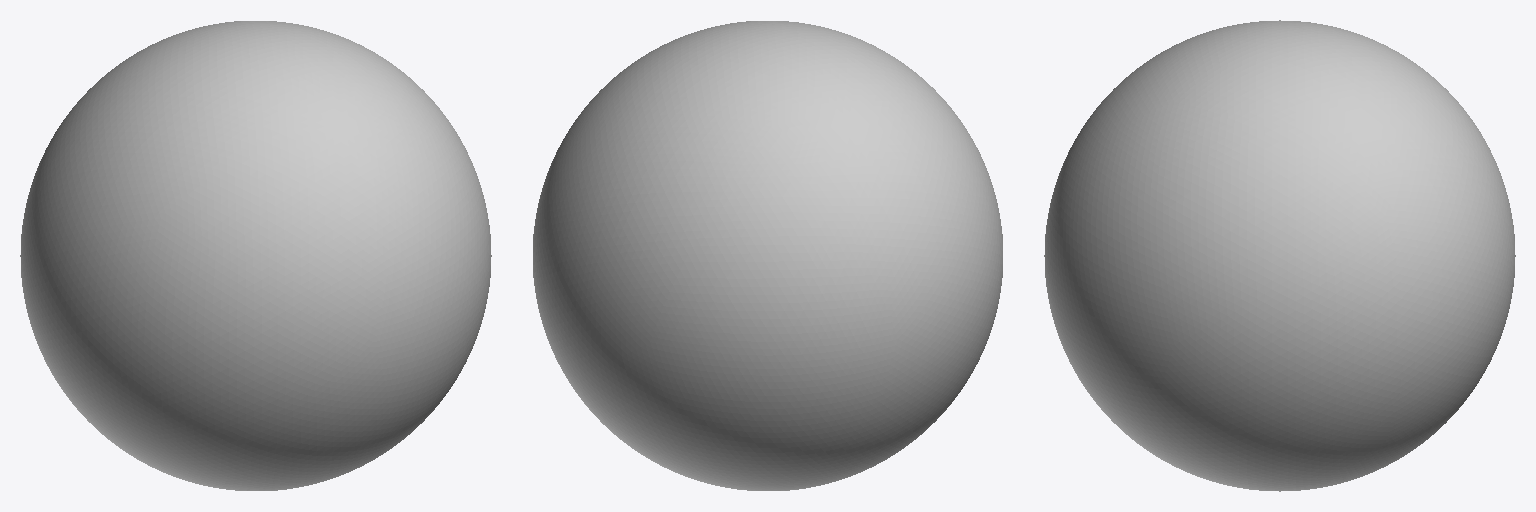
Rendered from ball20480.obj.
The picture shows the model from 3 angles: view 1: azimuth 30°, elevation 25°; view 2: azimuth 150°, elevation 25°; view 3: azimuth 270°, elevation 25°; orthographic projection.
Parts seen in each view (by area): view 1: pPlatonic1; view 2: pPlatonic1; view 3: pPlatonic1.
Boxes of the visible parts, <box> form: pPlatonic1: <box>20,21,491,490</box>; pPlatonic1: <box>533,21,1002,490</box>; pPlatonic1: <box>1044,20,1515,491</box>.
Size of the model in its own units: 2 by 2 by 2.